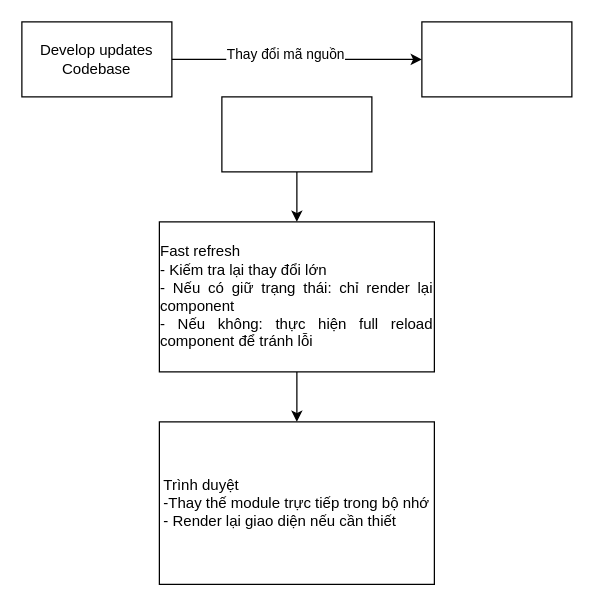
This 594x606 diagram has some shape labels left out. Each missing label, with the centre of its shape:
Biên dịch lại các Module thay đổi: point (296, 134)
Webpack (HMR + Fast Refresh): point (496, 59)
